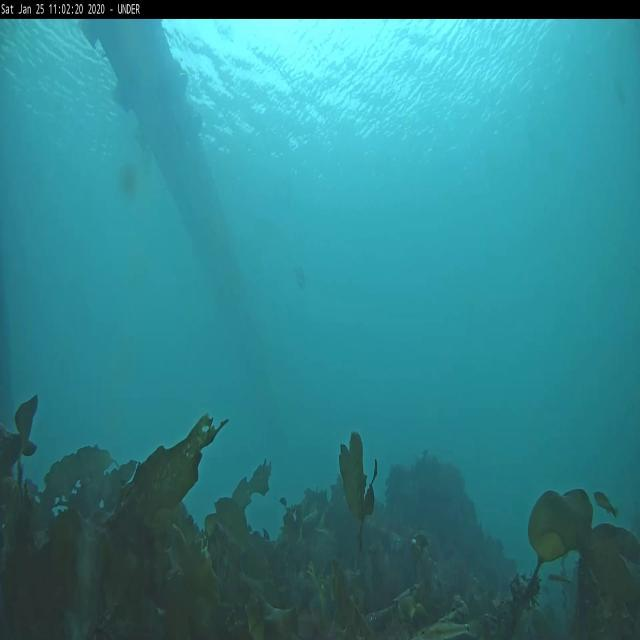fish: (408, 616, 473, 640), (592, 488, 622, 524), (292, 261, 308, 294), (546, 570, 570, 587)
